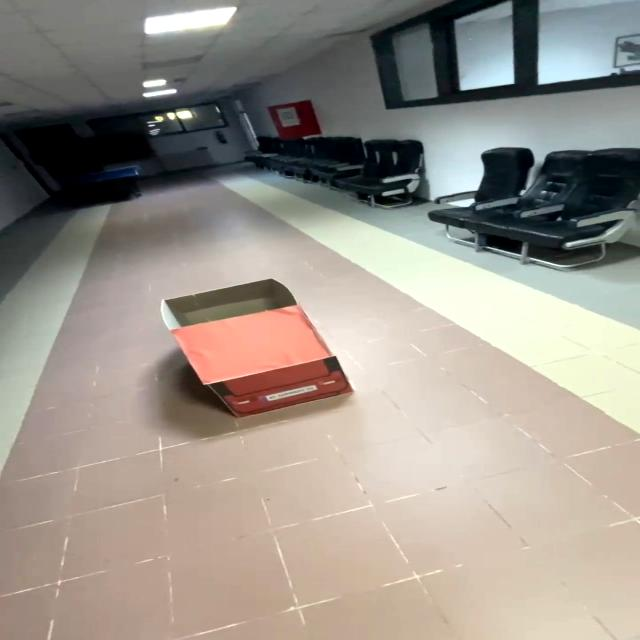red_car: (112, 264, 415, 446)
